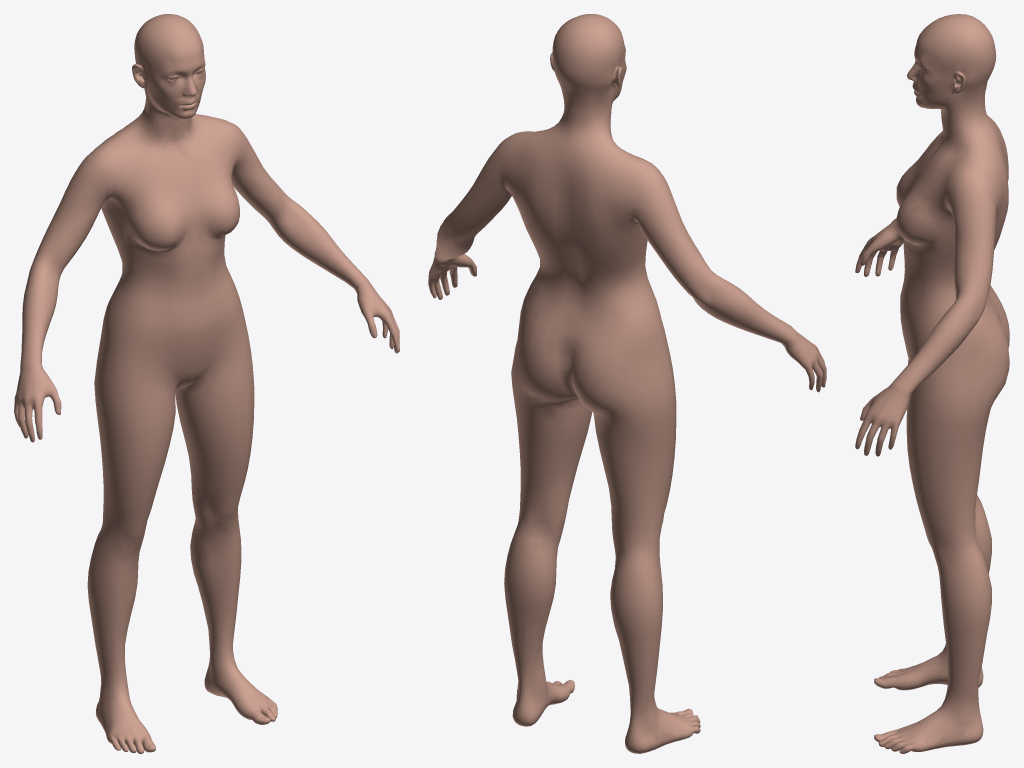
File: body_female.glb
3 renders of one model, left to right at view 1: azimuth 30°, elevation 25°; view 2: azimuth 150°, elevation 25°; view 3: azimuth 270°, elevation 25°, orthographic. The views are drawn at different scales.
Parts seen in each view (by area): view 1: LOD7; view 2: LOD7; view 3: LOD7.
Part boxes in pixels (bbox=[...]): LOD7: bbox=[14, 14, 399, 753]; LOD7: bbox=[428, 14, 826, 753]; LOD7: bbox=[855, 14, 1009, 753].
Size of the model in its own units: 0.1325 by 0.2329 by 0.0467.
